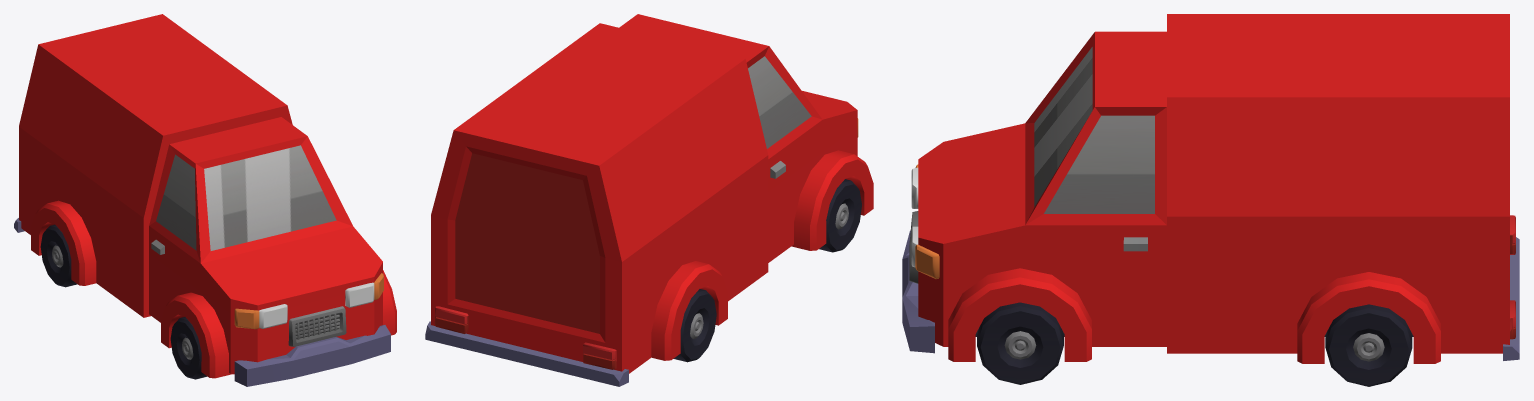
File: Van_8.fbx
3 renders of one model, left to right at view 1: azimuth 30°, elevation 25°; view 2: azimuth 150°, elevation 25°; view 3: azimuth 270°, elevation 25°, orthographic. The views are drawn at different scales.
Parts seen in each view (by area): view 1: Van_8, wheel_FR, wheel_BR; view 2: Van_8, wheel_BR, wheel_FR; view 3: Van_8, wheel_BL, wheel_FL.
Boxes of the visible parts, x1,y1,x2,y2 form: Van_8: [14, 14, 396, 386]; wheel_FR: [170, 317, 207, 379]; wheel_BR: [40, 224, 77, 287]; Van_8: [425, 14, 873, 386]; wheel_BR: [673, 289, 716, 362]; wheel_FR: [819, 179, 861, 252]; Van_8: [902, 14, 1519, 363]; wheel_BL: [1325, 304, 1412, 386]; wheel_FL: [977, 302, 1063, 384].
Bounding box in the file's own units: 123 × 119 × 248.
